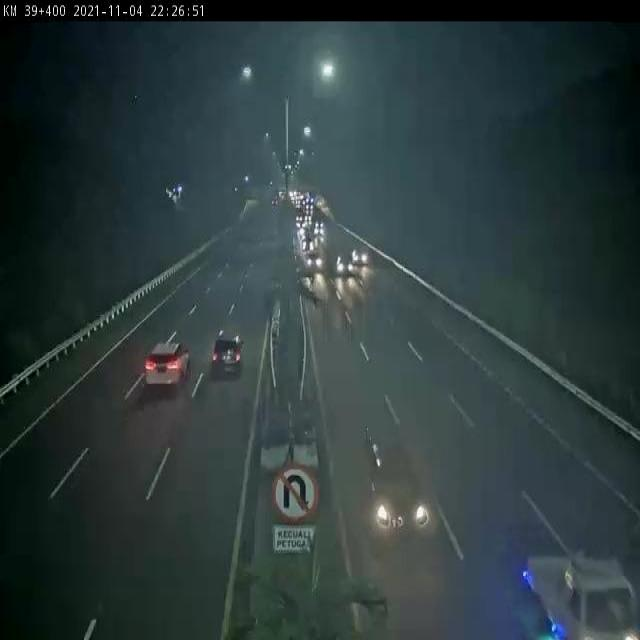Car: (358, 426, 427, 547), (146, 328, 191, 390), (208, 328, 246, 374), (335, 255, 353, 280), (306, 252, 324, 274), (302, 238, 316, 254), (355, 250, 369, 262)
Truck: (519, 533, 640, 640)
